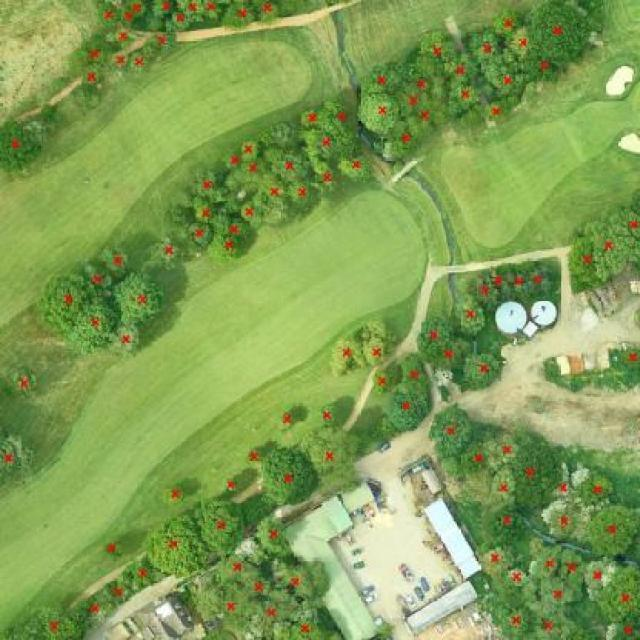tree: (299, 424, 359, 493), (528, 0, 588, 63), (194, 582, 263, 635), (506, 430, 555, 504), (40, 272, 94, 338), (150, 513, 205, 576), (261, 446, 318, 506), (0, 603, 80, 639), (117, 272, 166, 328), (270, 557, 332, 600), (196, 497, 244, 552), (71, 299, 117, 356), (320, 94, 360, 158), (588, 504, 637, 556), (588, 218, 634, 273), (245, 593, 301, 636), (597, 566, 640, 622), (569, 235, 609, 292), (481, 52, 525, 103), (541, 493, 587, 541), (0, 117, 38, 173), (431, 407, 474, 455), (0, 431, 34, 486), (389, 390, 432, 433), (358, 92, 399, 136), (417, 315, 455, 361), (362, 316, 398, 364), (212, 553, 261, 587), (271, 618, 344, 640), (407, 57, 441, 103), (259, 176, 290, 224), (489, 504, 526, 544), (330, 335, 362, 380), (531, 606, 572, 640), (67, 35, 110, 67), (462, 353, 500, 389), (266, 149, 309, 180), (362, 64, 404, 95), (398, 356, 433, 393), (458, 272, 495, 306), (483, 434, 520, 468), (585, 557, 619, 594), (229, 159, 272, 188), (539, 576, 582, 605), (214, 212, 251, 245), (576, 473, 615, 504), (76, 591, 113, 623), (257, 516, 286, 556), (445, 53, 479, 87), (445, 83, 481, 115), (419, 32, 456, 63), (557, 549, 586, 588), (495, 604, 530, 636), (311, 155, 337, 197), (504, 265, 535, 300), (532, 539, 559, 579), (434, 340, 471, 369), (455, 299, 484, 336), (458, 441, 492, 472), (149, 239, 182, 270), (525, 54, 560, 83), (387, 122, 415, 158), (222, 0, 256, 29), (126, 560, 159, 589), (338, 156, 372, 184), (288, 176, 314, 212), (7, 369, 36, 400), (112, 327, 141, 358), (471, 30, 500, 61), (527, 266, 558, 295), (492, 464, 516, 501), (86, 262, 112, 296), (211, 236, 240, 265), (72, 84, 103, 111), (309, 131, 340, 158), (482, 549, 513, 576), (507, 26, 531, 60), (141, 33, 177, 55), (397, 82, 421, 115), (604, 616, 640, 638), (101, 247, 130, 273), (621, 204, 640, 241), (237, 199, 263, 226), (105, 574, 131, 601), (369, 416, 397, 441), (412, 107, 438, 133), (195, 170, 219, 198), (495, 11, 520, 37), (254, 0, 278, 26), (165, 10, 192, 32), (552, 466, 571, 497), (191, 199, 215, 223), (189, 225, 214, 247), (270, 121, 296, 142), (486, 269, 508, 293), (99, 1, 119, 27), (149, 0, 177, 17), (178, 0, 204, 18), (244, 577, 270, 595), (119, 0, 136, 26), (301, 107, 322, 128), (79, 66, 101, 86), (241, 139, 261, 161), (319, 403, 338, 426), (432, 367, 453, 387), (114, 28, 134, 48), (129, 53, 149, 73), (165, 486, 185, 506), (203, 0, 222, 20), (225, 150, 242, 172), (245, 445, 262, 467), (127, 0, 147, 18), (374, 368, 389, 392), (623, 347, 640, 368), (505, 570, 526, 587), (486, 103, 506, 120), (276, 412, 293, 430), (111, 50, 128, 67), (105, 541, 123, 557), (222, 477, 236, 491)
